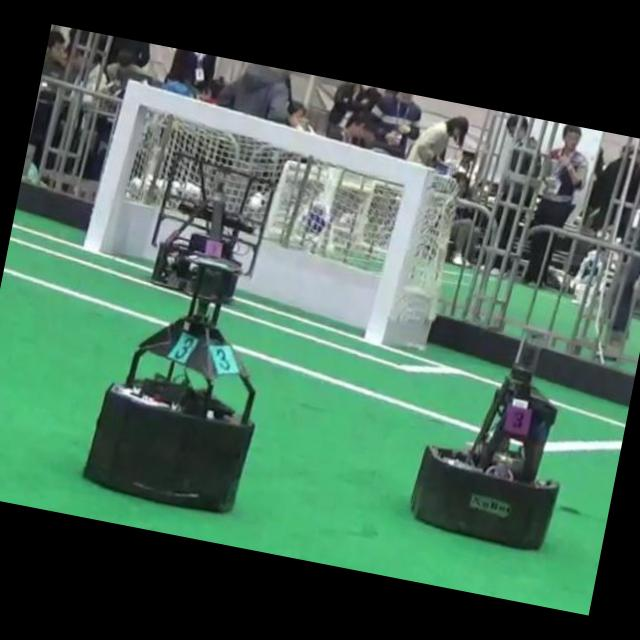goal: (364, 160, 429, 344), (85, 81, 143, 251)
robot: (84, 256, 255, 512), (411, 328, 559, 549), (152, 152, 276, 304)
